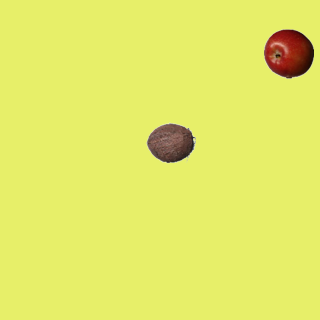Apple Braeburn: (263, 28, 313, 78)
Cocos: (145, 117, 195, 167)
